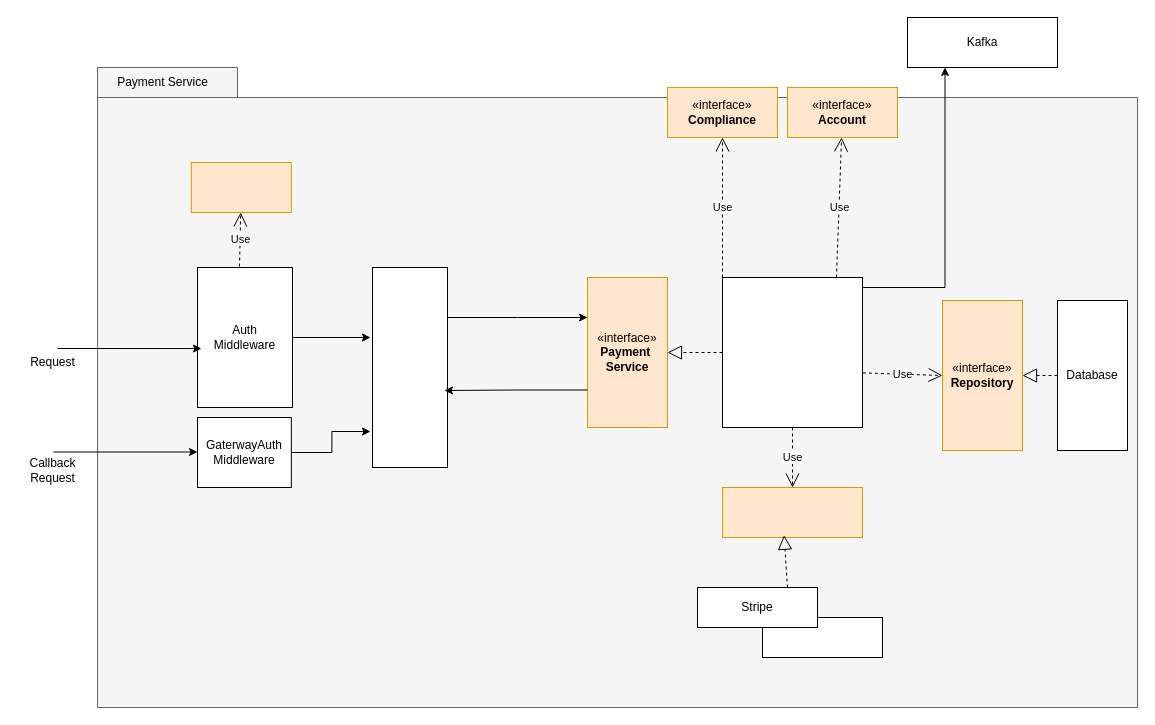
This 1155x725 diagram has some shape labels left out. The centre of each missing label's shape, as x and y in pixels:
"Payment Handler" belongs at (x=410, y=367).
"PaymentService Implementation" belongs at (x=792, y=352).
"Paypal" belongs at (x=822, y=637).
"«interface» Auth" belongs at (x=240, y=187).
"«interface» PaymentProcessor" belongs at (x=792, y=512).
